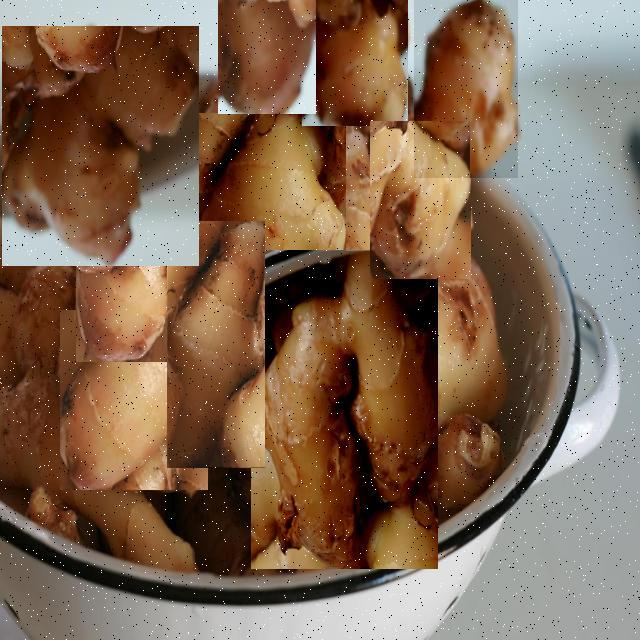ginger: (250, 250, 437, 568), (1, 25, 198, 265), (198, 112, 345, 313), (59, 309, 207, 489), (167, 221, 264, 466), (414, 0, 517, 177), (370, 120, 470, 278), (75, 218, 178, 361), (302, 0, 407, 125), (217, 0, 315, 113)
